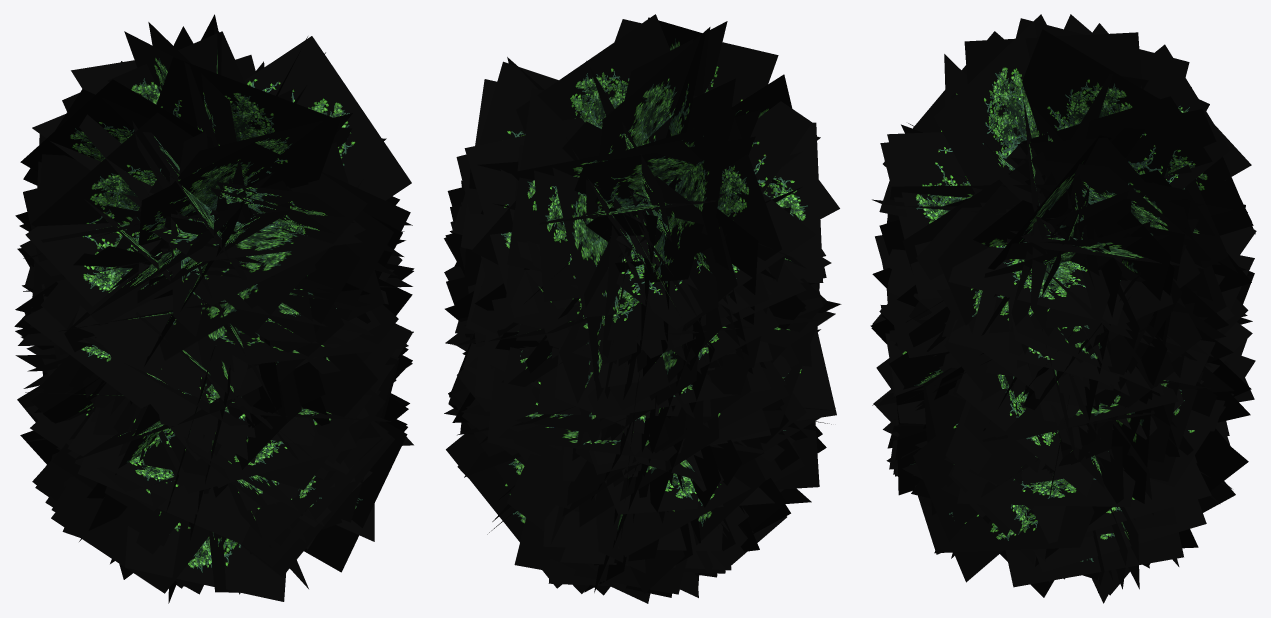
Rendered from model_tree.glb.
The picture shows the model from 3 angles, left to right: view 1: azimuth 30°, elevation 25°; view 2: azimuth 150°, elevation 25°; view 3: azimuth 270°, elevation 25°; orthographic projection. The views are drawn at different scales.
Size of the model in its own units: 4.5 by 7 by 4.43.
2 materials, 1 textured.
